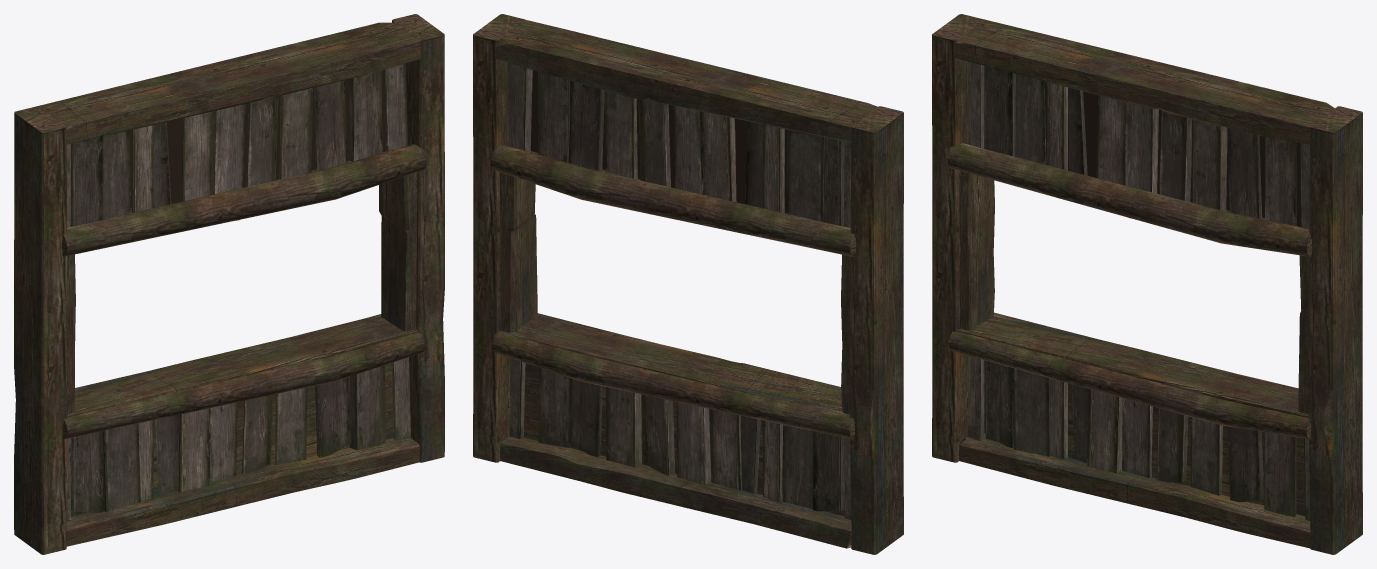
3 renders of one model, left to right at view 1: azimuth 30°, elevation 25°; view 2: azimuth 150°, elevation 25°; view 3: azimuth 330°, elevation 25°, orthographic.
Visible parts, largest first — view 1: SM_BB_T1_Wall_Windowframe_Double_LOD0; view 2: SM_BB_T1_Wall_Windowframe_Double_LOD0; view 3: SM_BB_T1_Wall_Windowframe_Double_LOD0.
Part boxes in pixels (x1,y1,x2,y2): SM_BB_T1_Wall_Windowframe_Double_LOD0: (14, 14, 444, 554); SM_BB_T1_Wall_Windowframe_Double_LOD0: (473, 14, 903, 554); SM_BB_T1_Wall_Windowframe_Double_LOD0: (932, 14, 1362, 554).
Size of the model in its own units: 3 by 3 by 0.5384.
2 materials, 2 textured.
